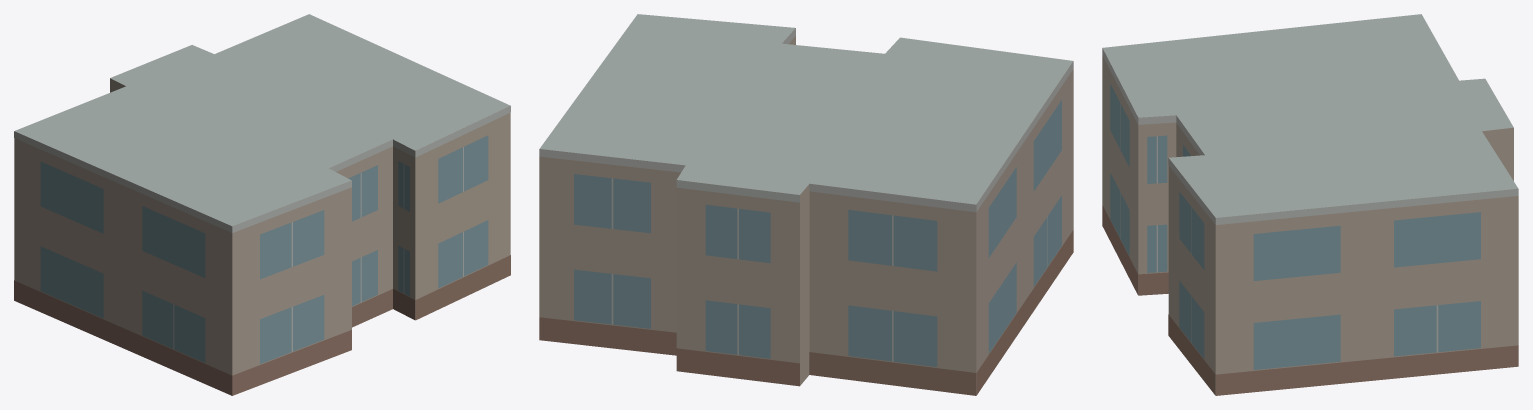
Rendered from survey-upis-32871438.glb.
The picture shows the model from 3 angles, left to right: view 1: azimuth 30°, elevation 25°; view 2: azimuth 150°, elevation 25°; view 3: azimuth 270°, elevation 25°; orthographic projection. The views are drawn at different scales.
Visible parts, largest first — view 1: survey-upis-32871438.tmp; view 2: survey-upis-32871438.tmp; view 3: survey-upis-32871438.tmp.
Part boxes in pixels (x1,y1,x2,y2): survey-upis-32871438.tmp: (14,14,510,395); survey-upis-32871438.tmp: (539,14,1073,395); survey-upis-32871438.tmp: (1102,14,1518,395).
Size of the model in its own units: 15.01 by 6.1 by 12.95.
